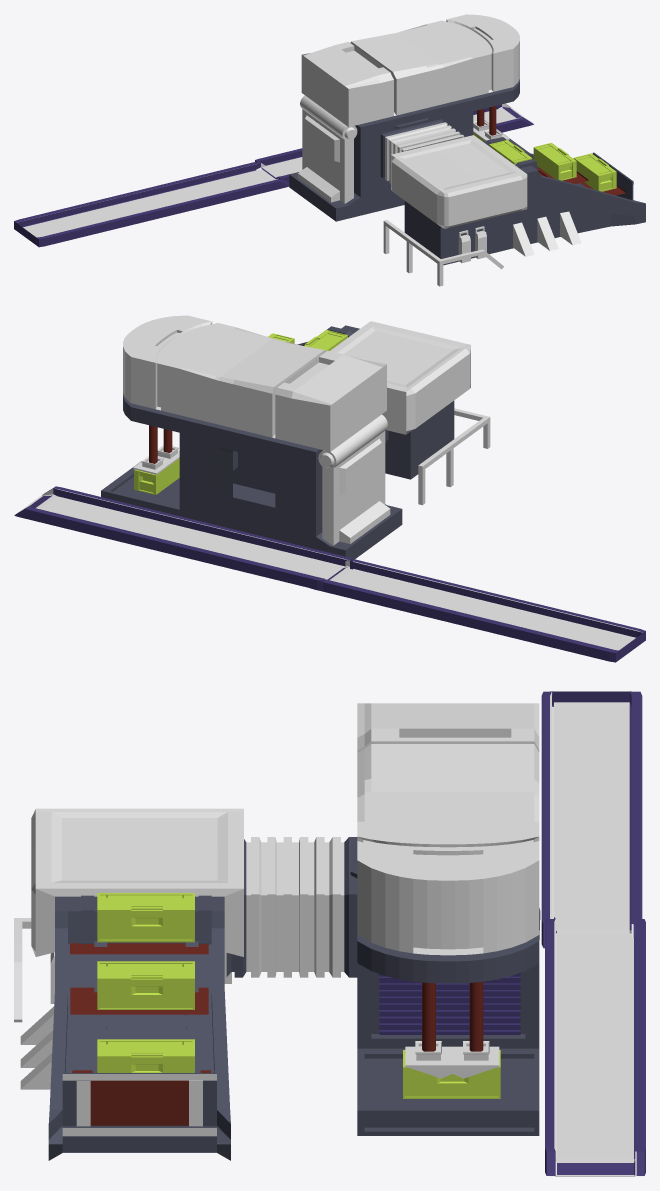
Rendered from Flipped Normal Comic Con Factory Asset.fbx.
3 views of the same model, one above another, from view 1: azimuth 30°, elevation 25°; view 2: azimuth 150°, elevation 25°; view 3: azimuth 270°, elevation 25° (orthographic). The views are drawn at different scales.
Visible parts, largest first — view 1: Плоскость, Куб, Цилиндр, Куб.001, Плоскость.001, Куб.002, Куб.008, Куб.009, Плоскость.002, Куб.007; view 2: Плоскость, Куб.001, Куб, Цилиндр, Куб.002, Куб.006, Куб.007; view 3: Плоскость, Куб.001, Куб, Плоскость.007, Куб.007, Куб.008, Куб.009, Куб.006, Плоскость.001, Куб.005, Плоскость.005, Плоскость.004 (+3 smaller).
Part boxes in pixels (x1,y1,x2,y2): Плоскость: [289, 14, 645, 265]; Куб: [14, 161, 289, 247]; Цилиндр: [297, 95, 357, 203]; Куб.001: [255, 103, 533, 182]; Плоскость.001: [513, 211, 581, 256]; Куб.002: [383, 220, 503, 286]; Куб.008: [533, 143, 576, 180]; Куб.009: [573, 153, 616, 191]; Плоскость.002: [458, 226, 486, 262]; Куб.007: [489, 140, 532, 164]; Плоскость: [101, 315, 470, 559]; Куб.001: [14, 486, 352, 590]; Куб: [311, 559, 645, 662]; Цилиндр: [318, 414, 390, 545]; Куб.002: [418, 408, 490, 505]; Куб.006: [134, 458, 179, 494]; Куб.007: [304, 330, 347, 351]; Плоскость: [31, 703, 540, 1160]; Куб.001: [545, 917, 645, 1176]; Куб: [541, 691, 642, 948]; Плоскость.007: [379, 973, 520, 1034]; Куб.007: [97, 893, 194, 942]; Куб.008: [97, 961, 194, 1009]; Куб.009: [97, 1039, 194, 1072]; Куб.006: [403, 1050, 500, 1098]; Плоскость.001: [20, 1006, 54, 1089]; Куб.005: [405, 1046, 499, 1078]; Плоскость.005: [70, 987, 208, 1014]; Плоскость.004: [70, 943, 208, 954].
Size of the model in its own units: 491 by 138 by 278.
